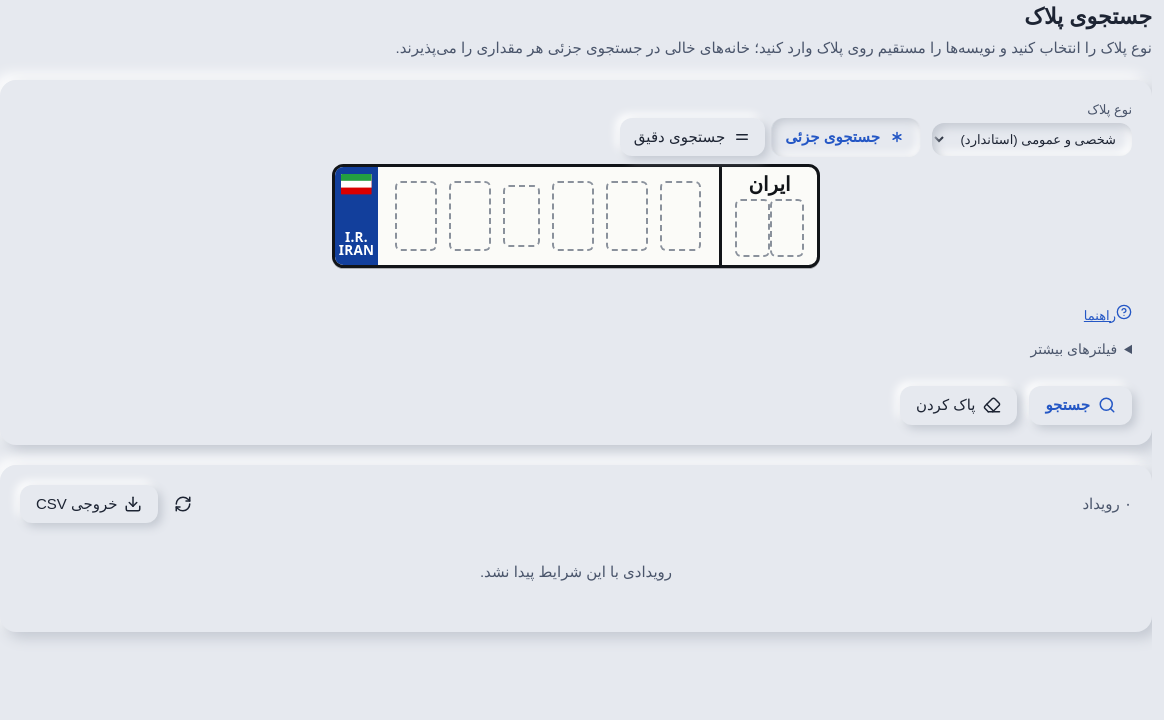
Test: search request › blocks an incomplete exact search with a message
Click the radio button labelled "جستجوی دقیق" at point(692, 137), box x1=620 y1=118 x2=765 y2=156
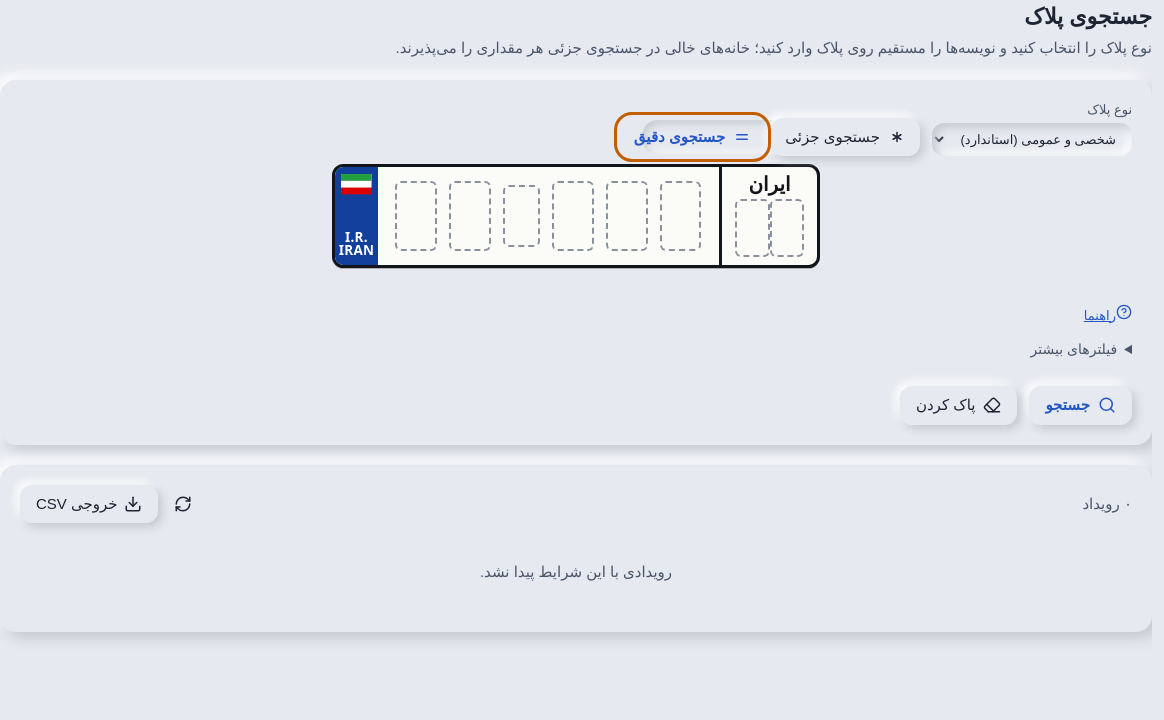
Click the button "جستجو" at point(1081, 405), box x1=1029 y1=386 x2=1132 y2=424
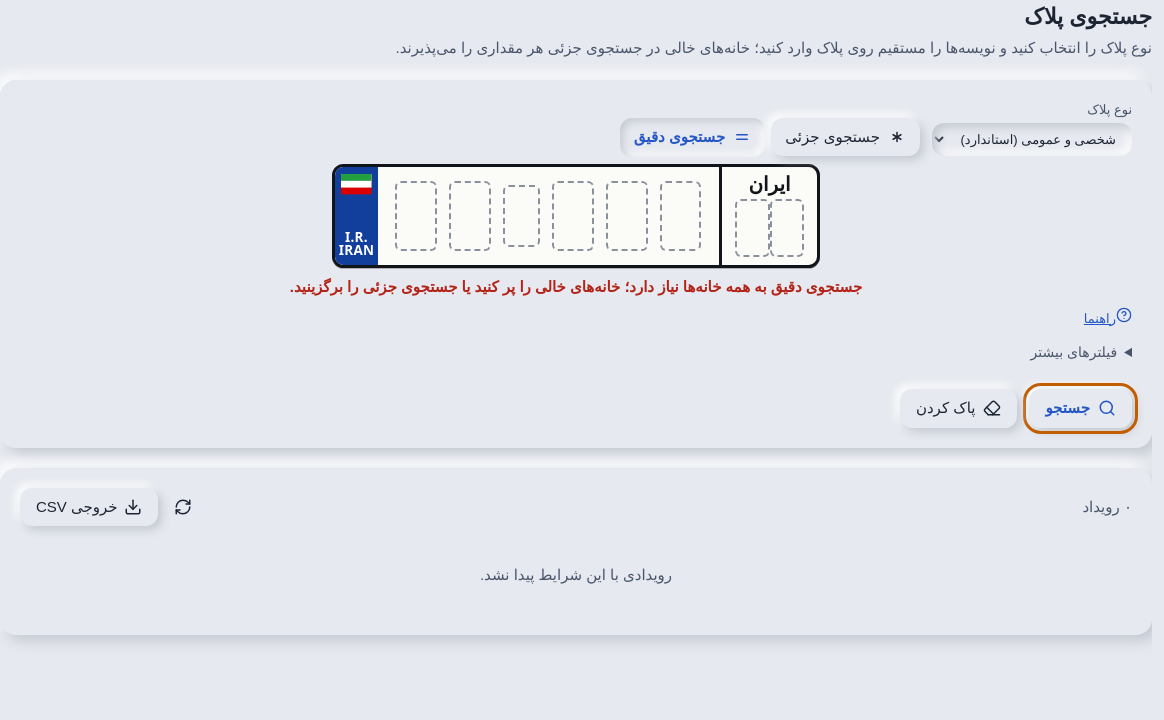
Check: the message shows "جستجوی دقیق به همه خانه‌ها نیاز دارد", box x1=290 y1=278 x2=862 y2=295
